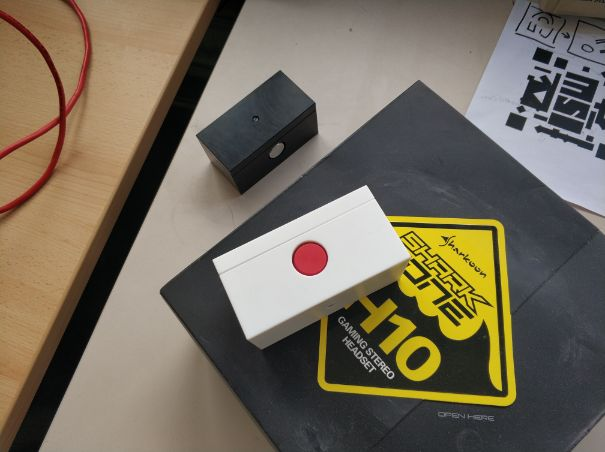black+black+silver: (192, 69, 324, 197)
white+white+red: (211, 182, 417, 351)
